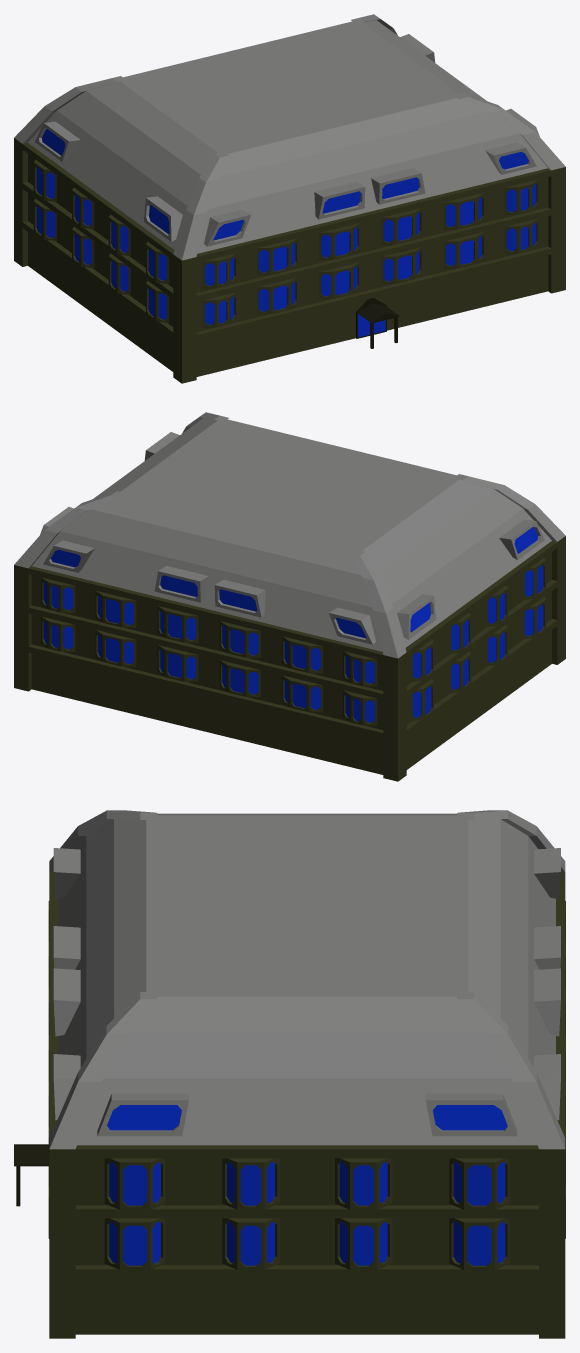
The model's file is Huis.fbx.
3 views of the same model, one above another, from view 1: azimuth 30°, elevation 25°; view 2: azimuth 150°, elevation 25°; view 3: azimuth 270°, elevation 25° (orthographic). The views are drawn at different scales.
Parts seen in each view (by area): view 1: Cube.002; view 2: Cube.002; view 3: Cube.002.
Boxes of the visible parts, x1,y1,x2,y2 form: Cube.002: (14, 14, 565, 383); Cube.002: (14, 412, 565, 781); Cube.002: (14, 810, 565, 1338).
Size of the model in its own units: 4180 by 1934 by 3332.
